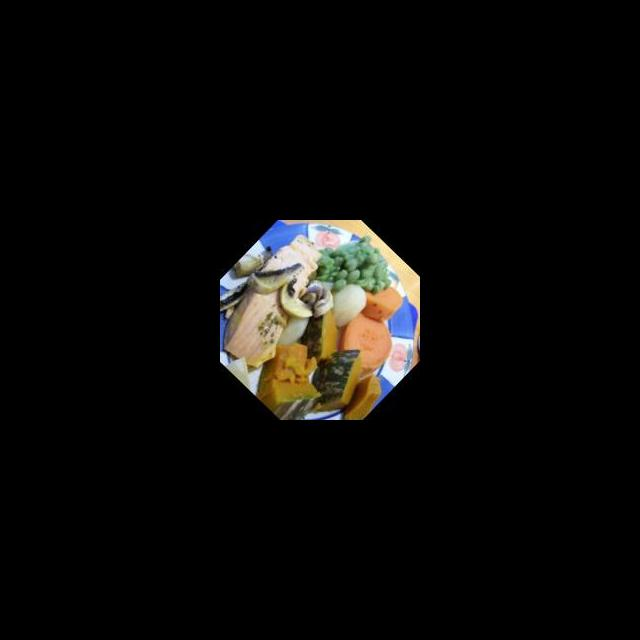ca hoi: (220, 228, 350, 378)
